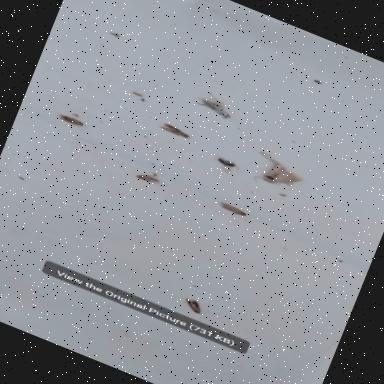abw: (252, 156, 306, 198)
pbw: (156, 118, 192, 140), (56, 111, 86, 129), (134, 168, 162, 187), (219, 200, 248, 218), (180, 294, 204, 314)
